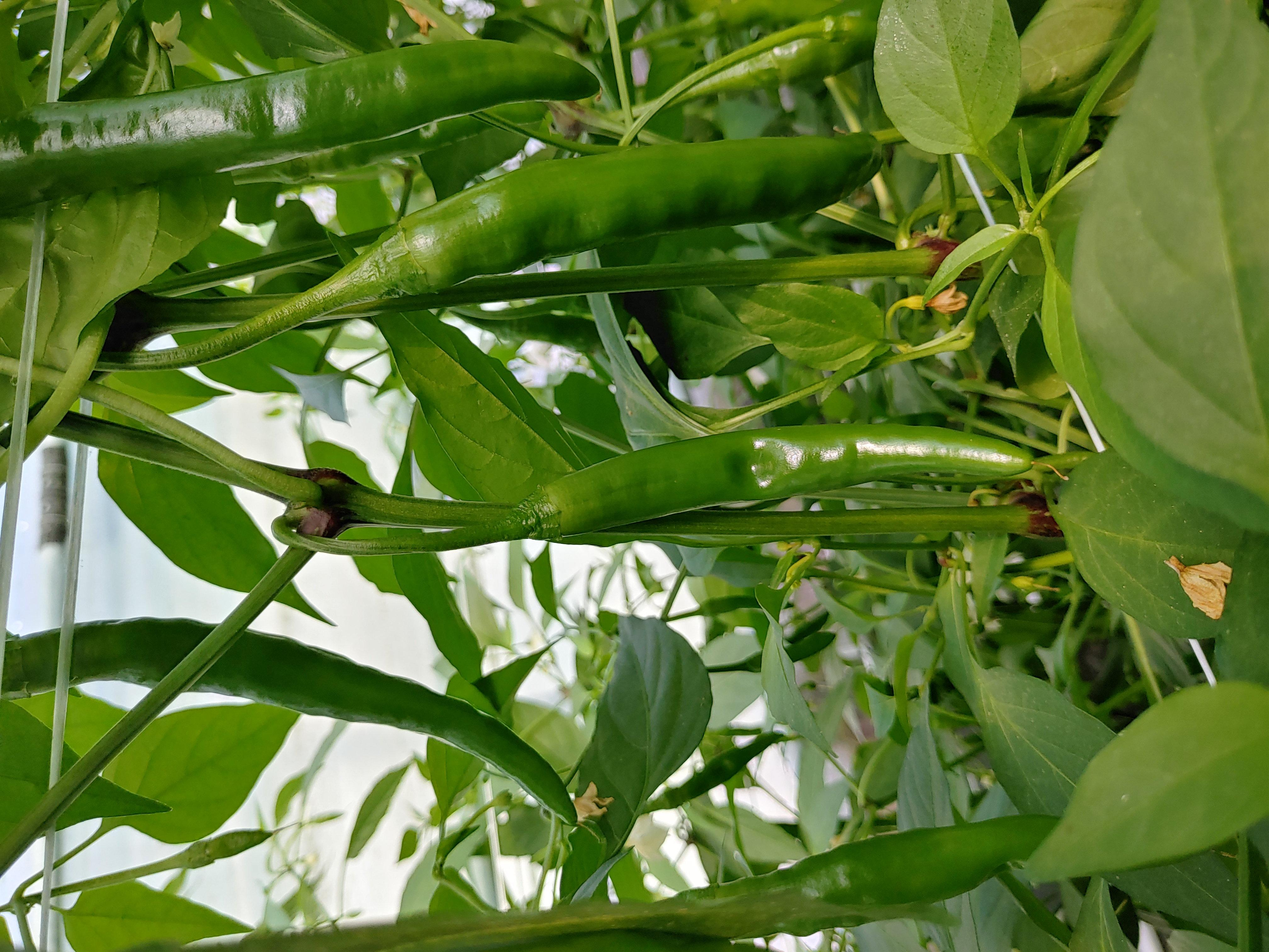Buah Cabai Sehat: (0, 610, 580, 831), (0, 34, 600, 214), (340, 128, 879, 309), (508, 419, 1053, 542)
